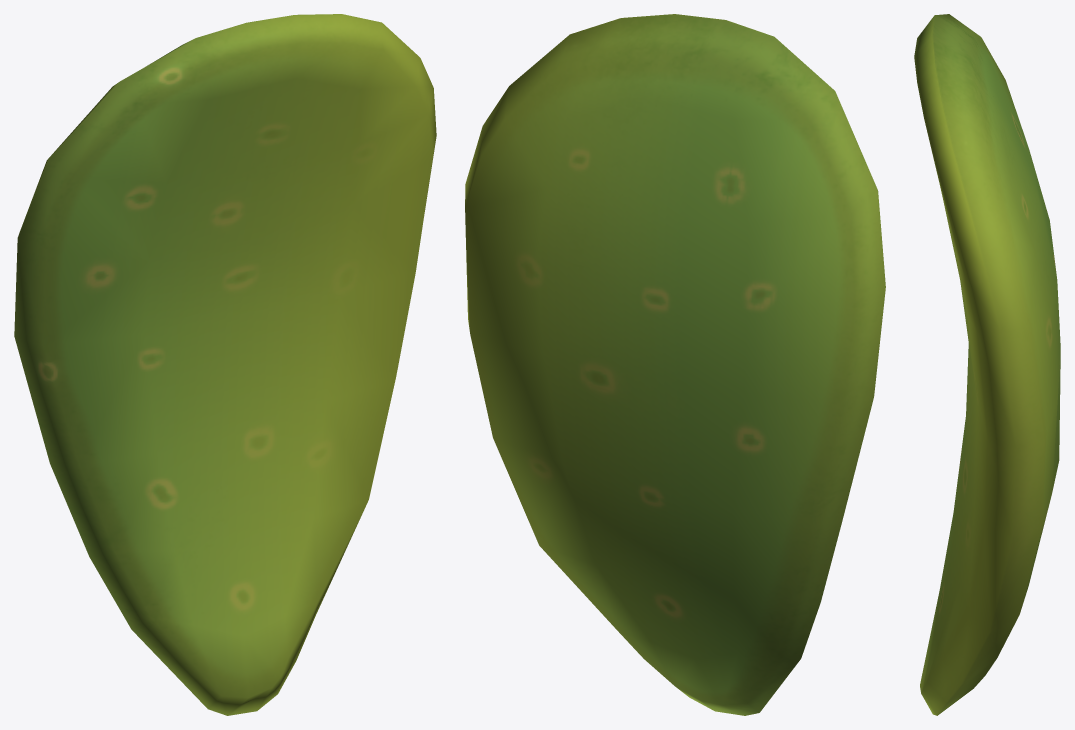
File: bcactus4.fbx
The picture shows the model from 3 angles, left to right: view 1: azimuth 30°, elevation 25°; view 2: azimuth 150°, elevation 25°; view 3: azimuth 270°, elevation 25°; orthographic projection. The views are drawn at different scales.
Visible parts, largest first — view 1: Object017; view 2: Object017; view 3: Object017.
Boxes of the visible parts, left/top/right/bottom form: Object017: left=14, top=14, right=436, bottom=715; Object017: left=465, top=14, right=885, bottom=715; Object017: left=914, top=14, right=1060, bottom=715.
Size of the model in its own units: 186 by 57.85 by 294.
